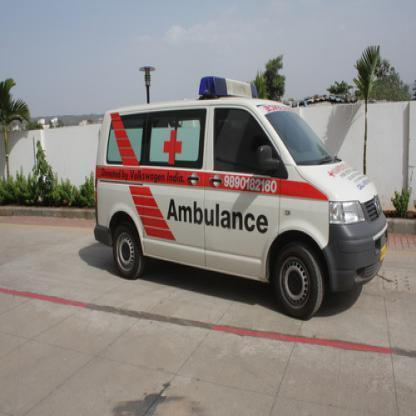Ambulance: (162, 194, 280, 238)
